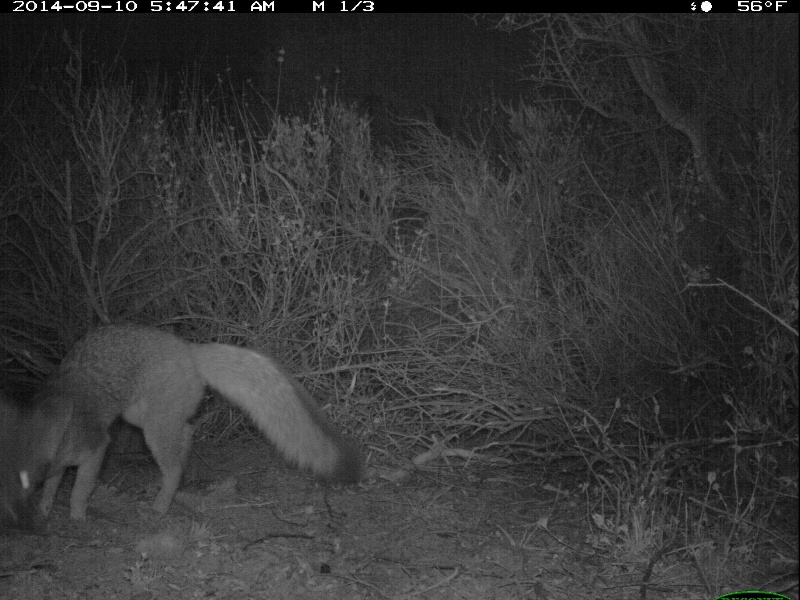fox: (1, 314, 364, 544)
